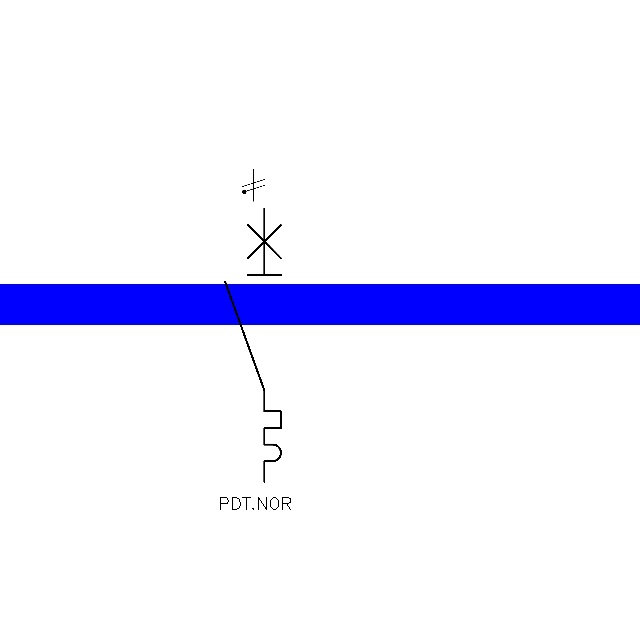interruptor_termomagnetico: (218, 201, 288, 489)
